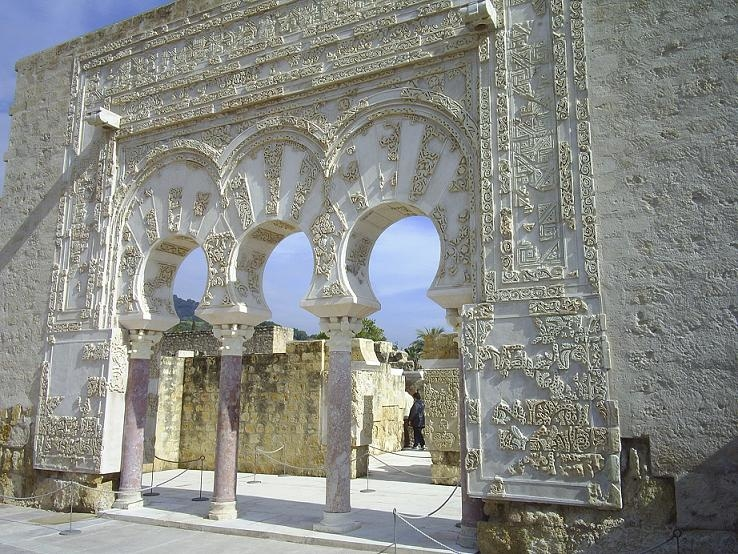arco-herradura: (335, 194, 469, 344), (227, 212, 334, 349), (132, 227, 228, 359)
